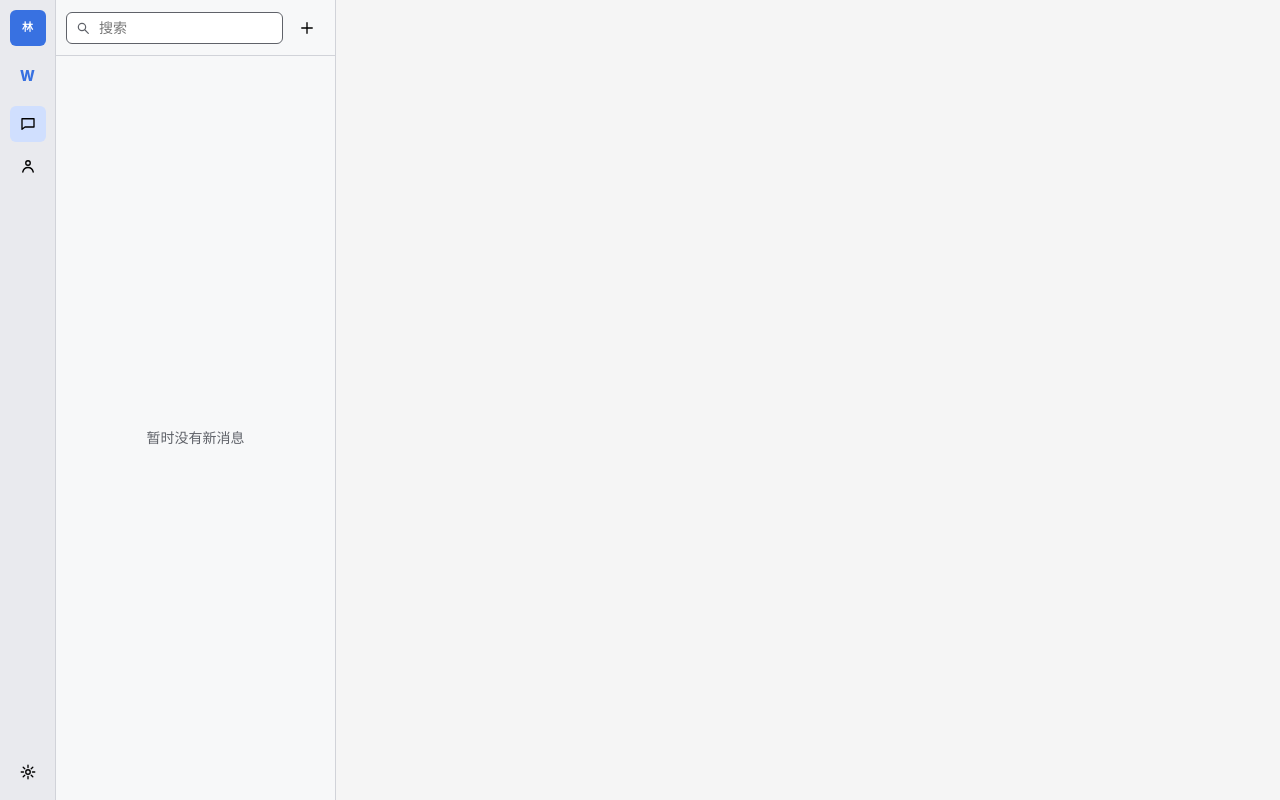
AuthenticatedShell › keeps contact shortcuts and shows the empty friend message instead of a fake profile
Click the button named "好友". click: x=28, y=166
box: [10, 148, 46, 184]
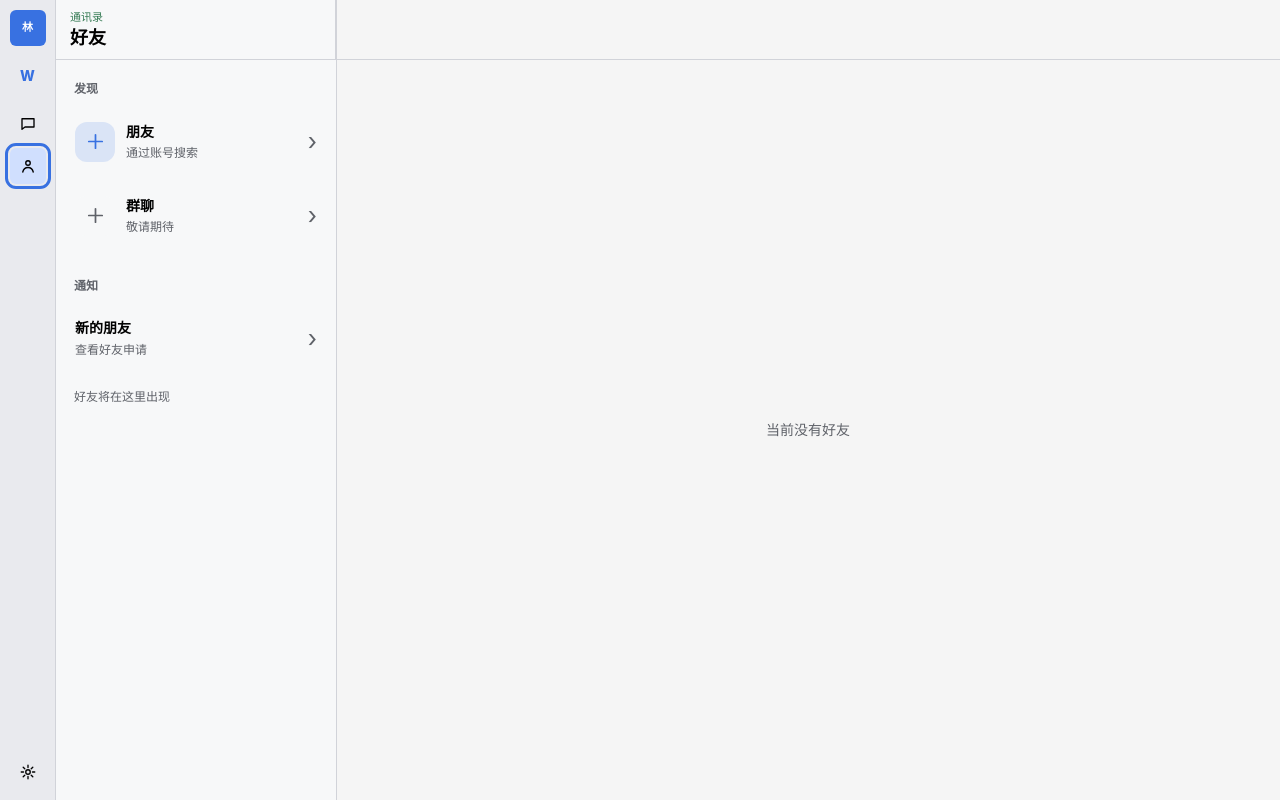
Check: the text "当前没有好友" is shown, box [766, 420, 850, 440]
Check: the text "发现" is shown, box [74, 81, 98, 96]
Check: the button "朋友 通过账号搜索 ›" is shown, box [64, 105, 328, 179]
